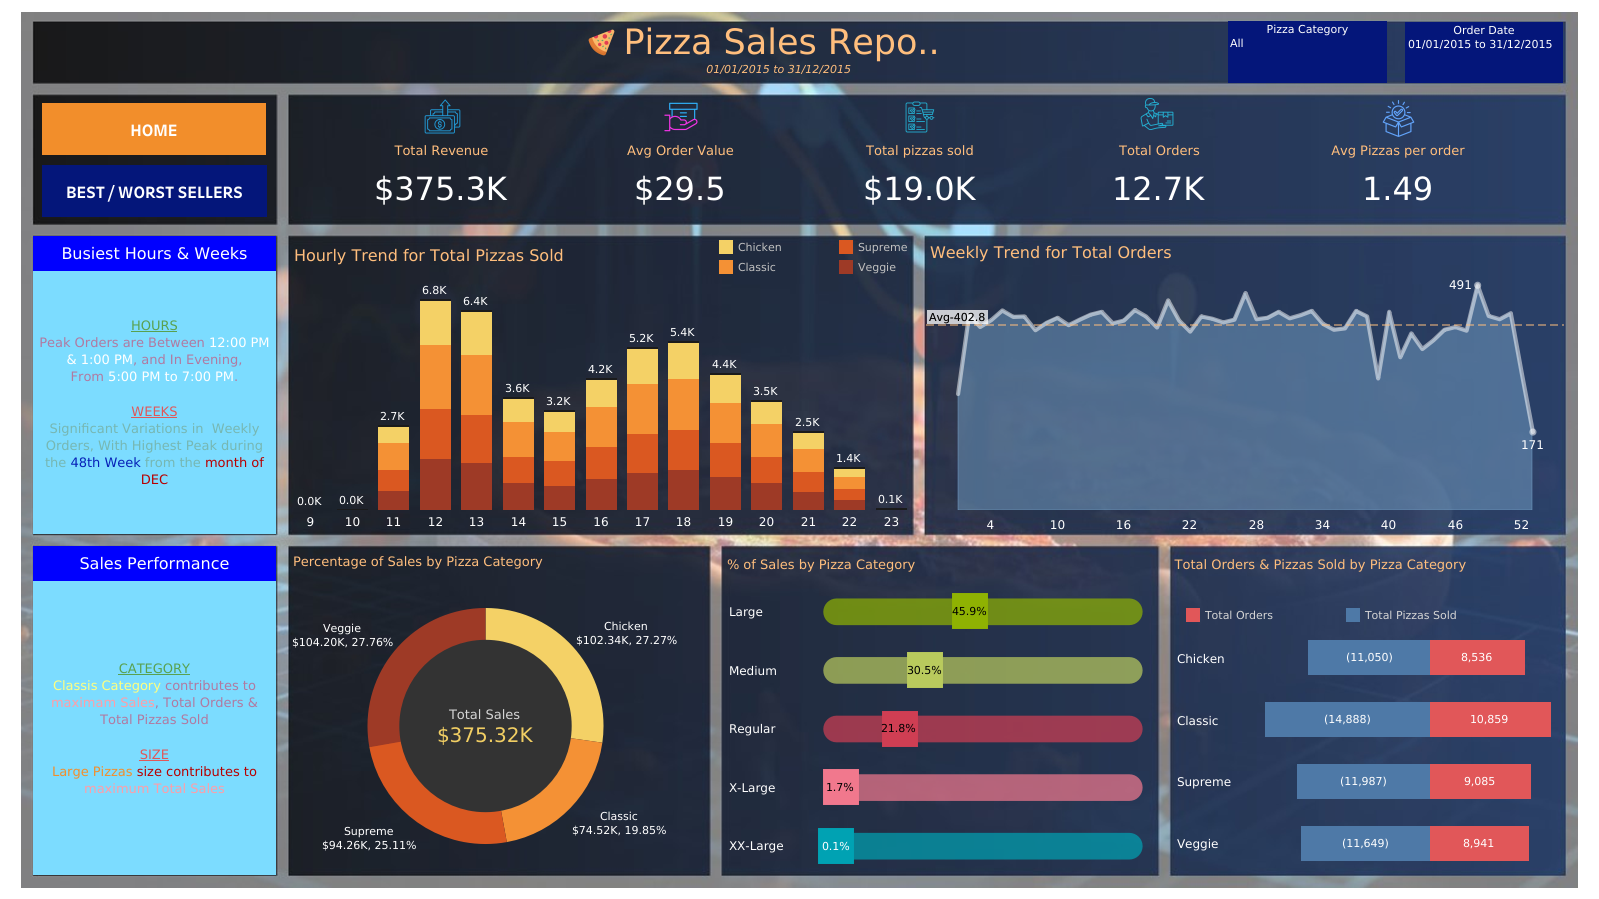

What the dashboard file says about the page in this screenshot:
{"tool":"tableau","page":{"name":"Home","canvas":[1600,900],"ordinal":1},"visuals":[{"type":"image","param":"Image/Pizza Tableau 1 (1).jpg","box":[8,8,1584,884]},{"type":"filter","title":"Hourly Trend for Total Pizzas Sold","param":"[federated.0qp0t461j9hdfd17t07n71o5kqj4].[none:pizza_category:nk]","box":[1228,21,159,62]},{"type":"filter","title":"Hourly Trend for Total Pizzas Sold","param":"[federated.0qp0t461j9hdfd17t07n71o5kqj4].[none:order_date:qk]","box":[1405,22,158,61]},{"type":"text","box":[620.9,25,318.5,34]},{"type":"image","param":"Image/pizza-slice.png","box":[584,29,35.9,27]},{"type":"worksheet","title":"Date Range","mark":"Automatic","box":[660.3,55,234.7,28]},{"type":"image","param":"Image/profit-growth.png","box":[422.4,96,40.6,42]},{"type":"image","param":"Image/order-delivery.png","box":[904.4,96,31.2,42]},{"type":"image","param":"Image/delivery-man.png","box":[1139.7,97,34,39]},{"type":"image","param":"Image/order (1).png","box":[1379.8,97,36.9,44]},{"type":"image","param":"Image/shipping-box.png","box":[662.5,98,37.8,39]},{"type":"dashboard-object","box":[42,103,224,52]},{"type":"worksheet","title":"KPI BANNER","mark":"Automatic","box":[322.3,140,1195.5,78]},{"type":"dashboard-object","box":[42,165,225,52]},{"type":"text","box":[33,236,243,35]},{"type":"legend","title":"Hourly Trend for Total Pizzas Sold","param":"[federated.0qp0t461j9hdfd17t07n71o5kqj4].[none:pizza_category:nk]","box":[716.4,237,265.6,58]},{"type":"worksheet","title":"Weekly Trend for Total Orders","mark":"Area","rows":["Calculation_46443381884887041","Calculation_46443381884887041"],"cols":["order_date"],"box":[926,237,638,298]},{"type":"worksheet","title":"Hourly Trend for Total Pizzas Sold","mark":"Bar","rows":["Calculation_46443381885440003","Calculation_46443381885440003"],"cols":["order_time"],"box":[290,240,622,290]},{"type":"text","box":[33,271,243,263]},{"type":"text","box":[33,546,243,35]},{"type":"worksheet","title":"Percentage of Sales by Pizza Category","mark":"Pie","rows":["Calculation_46443381913145351","Calculation_46443381913178121"],"box":[289,547,393,326]},{"type":"text","box":[1172,549,390,30]},{"type":"worksheet","title":"% of Sales by Pizza Category","mark":"Line","rows":["pizza_size"],"box":[723,550,434,325]},{"type":"text","box":[33,581,243,294]},{"type":"legend","title":"Total Orders & Pizzas Sold by Pizza Category","param":"[federated.0qp0t461j9hdfd17t07n71o5kqj4].[:Measure Names]","box":[1183.2,605,336.4,27]},{"type":"worksheet","title":"Total Orders & Pizzas Sold by Pizza Category","mark":"Automatic","rows":["pizza_category"],"box":[1171,627,394,247]}]}

Visuals, with their boxes in screenshot pixels (x1, y1, x2, y2), scaled from the page's 1600x900 canvas onto the 1599x899 screenshot:
image: 8,8,1591,891
"Hourly Trend for Total Pizzas Sold" filter: 1227,21,1386,83
"Hourly Trend for Total Pizzas Sold" filter: 1404,22,1562,83
text: 621,25,939,59
image: 584,29,620,56
"Date Range" worksheet: 660,55,894,83
image: 422,96,463,138
image: 904,96,935,138
image: 1139,97,1173,136
image: 1379,97,1416,141
image: 662,98,700,137
dashboard-object: 42,103,266,155
"KPI BANNER" worksheet: 322,140,1517,218
dashboard-object: 42,165,267,217
text: 33,236,276,271
"Hourly Trend for Total Pizzas Sold" legend: 716,237,981,295
"Weekly Trend for Total Orders" worksheet (Area marks): 925,237,1563,534
"Hourly Trend for Total Pizzas Sold" worksheet (Bar marks): 290,240,911,529
text: 33,271,276,533
text: 33,545,276,580
"Percentage of Sales by Pizza Category" worksheet (Pie marks): 289,546,682,872
text: 1171,548,1561,578
"% of Sales by Pizza Category" worksheet (Line marks): 723,549,1156,874
text: 33,580,276,874
"Total Orders & Pizzas Sold by Pizza Category" legend: 1182,604,1519,631
"Total Orders & Pizzas Sold by Pizza Category" worksheet: 1170,626,1564,873
